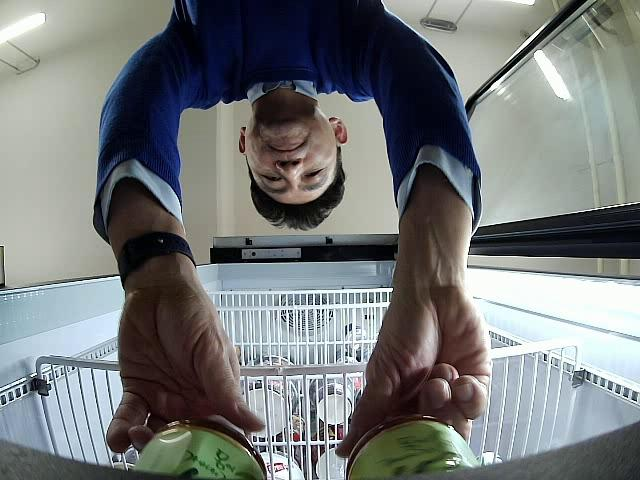19_17cha: (103, 265, 262, 439), (334, 283, 488, 456), (347, 410, 481, 479), (131, 417, 265, 480)
